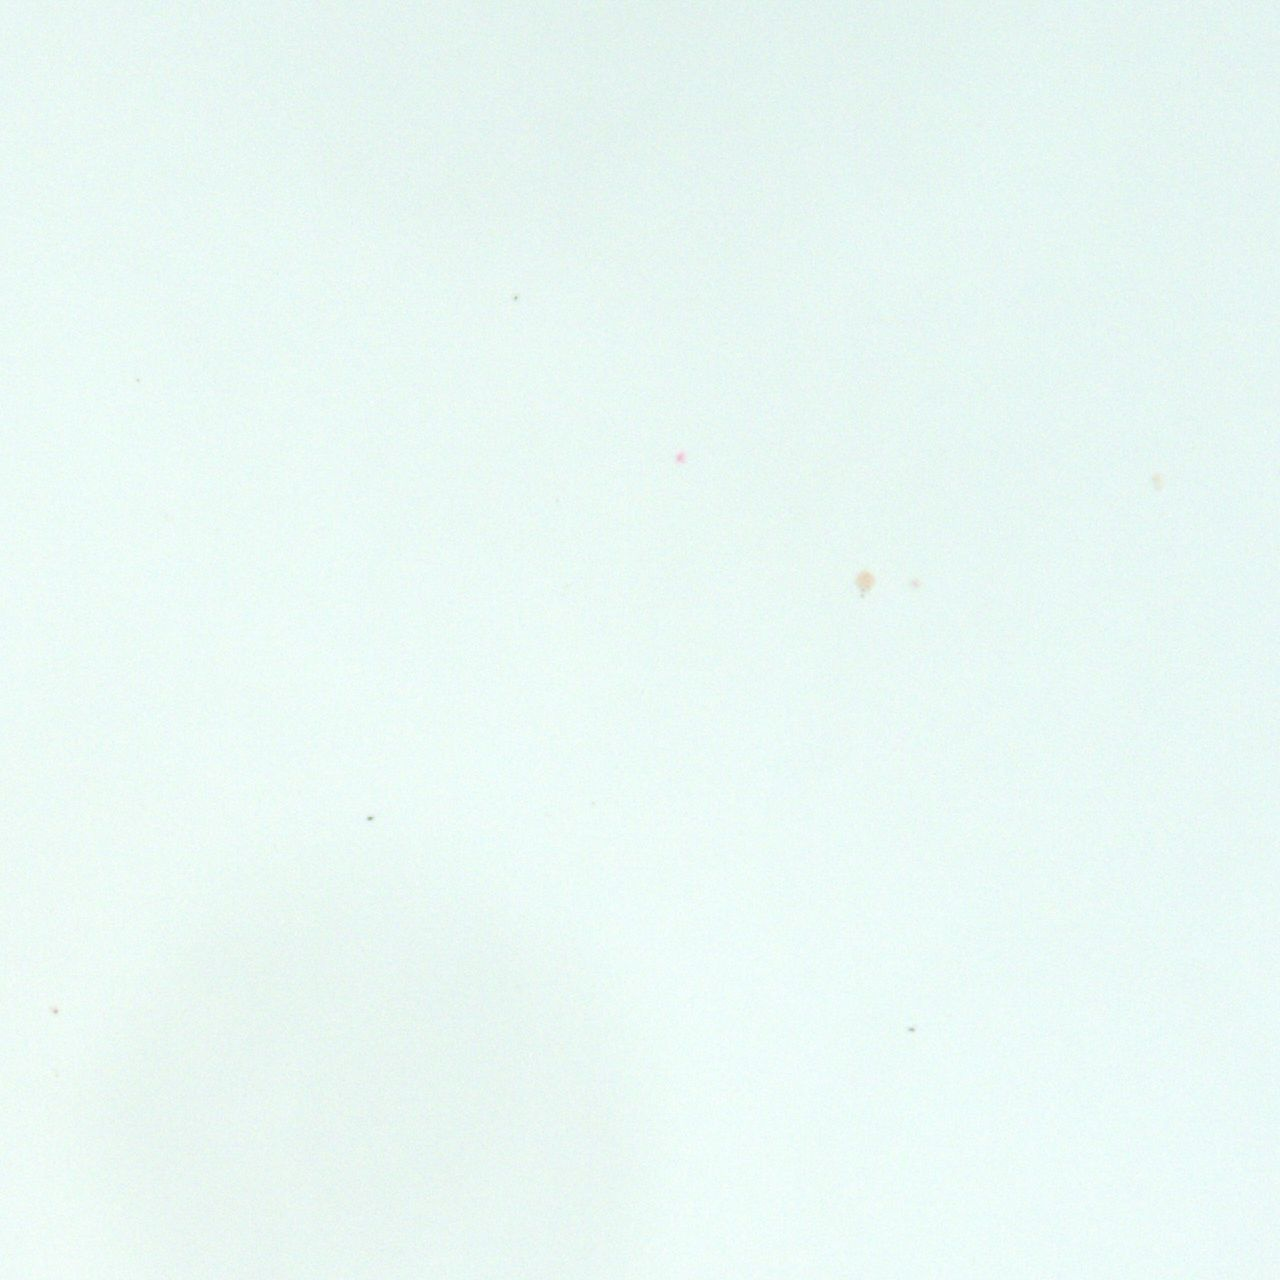dust: (855, 570, 874, 597), (1150, 469, 1165, 493), (908, 576, 925, 594), (365, 813, 376, 823), (510, 292, 520, 301), (52, 1005, 57, 1013), (907, 1027, 917, 1032)
